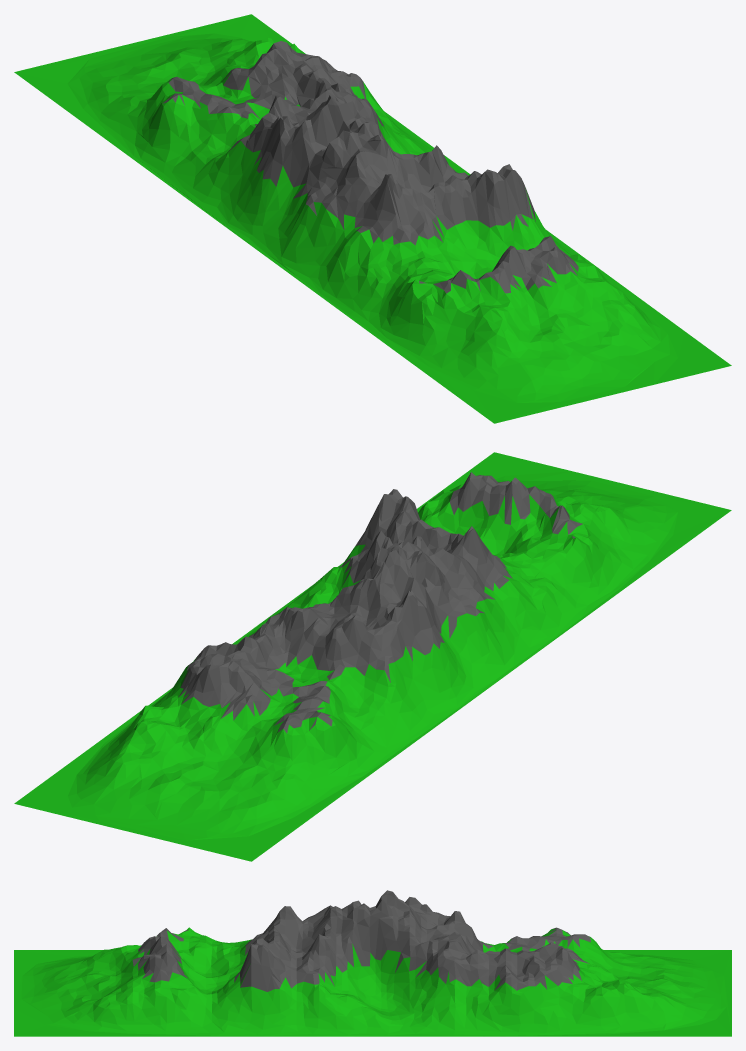
The model's file is gory3.fbx.
The picture shows the model from 3 angles, top to bottom: view 1: azimuth 30°, elevation 25°; view 2: azimuth 150°, elevation 25°; view 3: azimuth 270°, elevation 25°; orthographic projection. The views are drawn at different scales.
Parts seen in each view (by area): view 1: Landscape.003; view 2: Landscape.003; view 3: Landscape.003.
Part boxes in pixels (bbox=[...]): Landscape.003: bbox=[14, 14, 731, 423]; Landscape.003: bbox=[14, 452, 731, 861]; Landscape.003: bbox=[14, 890, 731, 1036].
Size of the model in its own units: 200 by 98.15 by 700.
